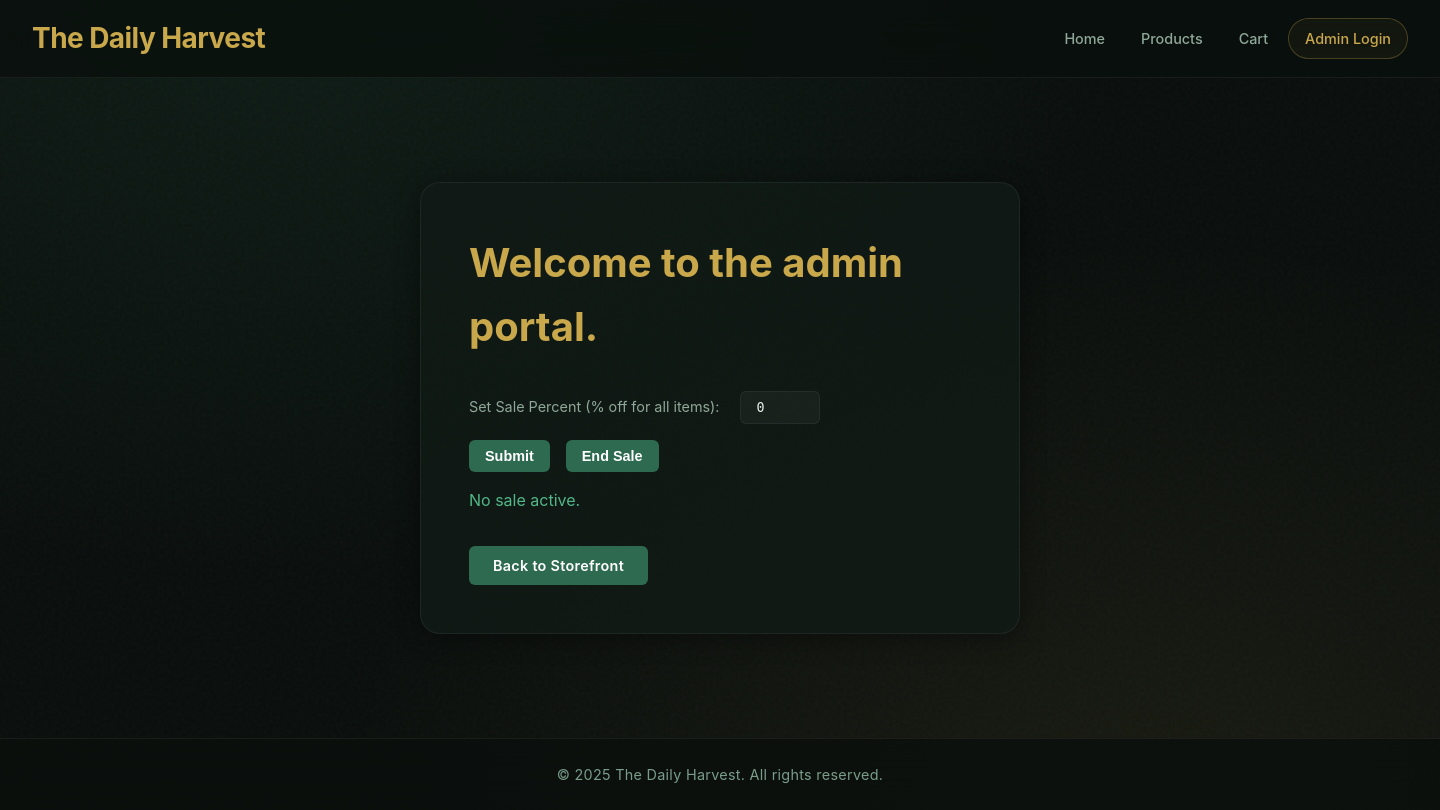
Test: AdminPage › shows error for invalid (non-numeric) input
Replace the text in the field labelled "Set Sale Percent (% off for all items):" with "abc" at (780, 408), box [740, 391, 820, 424]
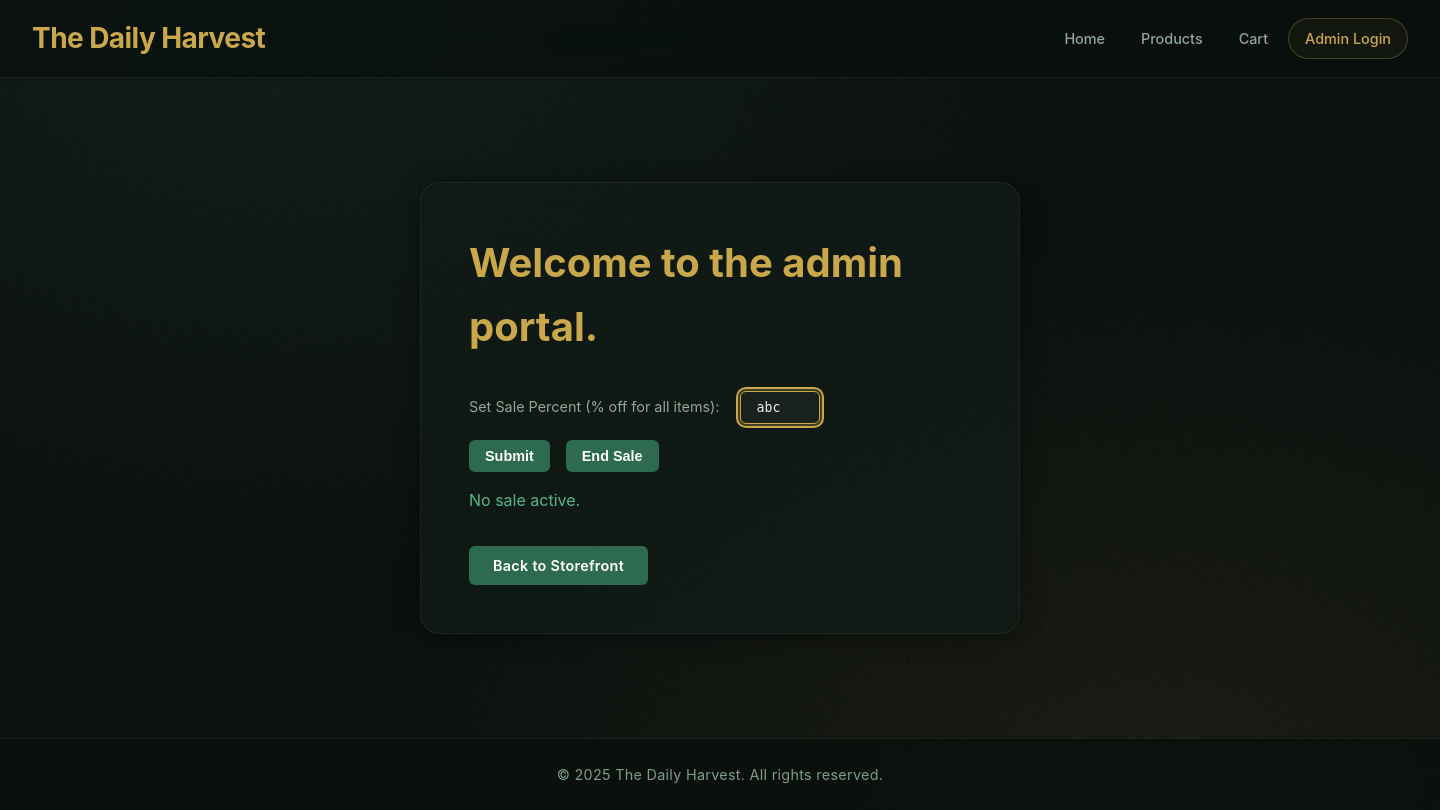
Click the button "Submit".
click(509, 456)  # box [469, 440, 550, 472]
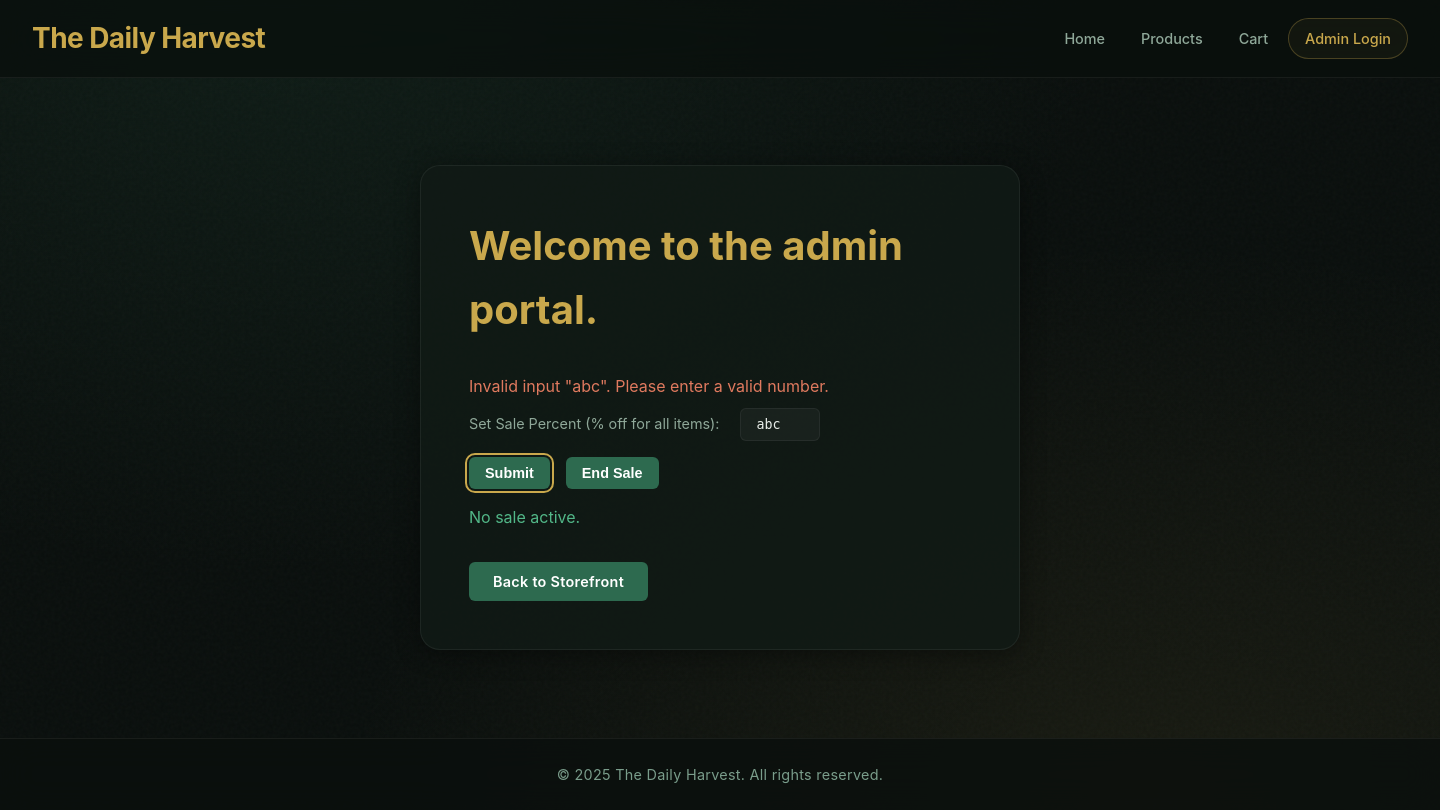
Check: the text "Invalid input \"abc\". Please enter a valid number." is shown, box [469, 376, 829, 396]
